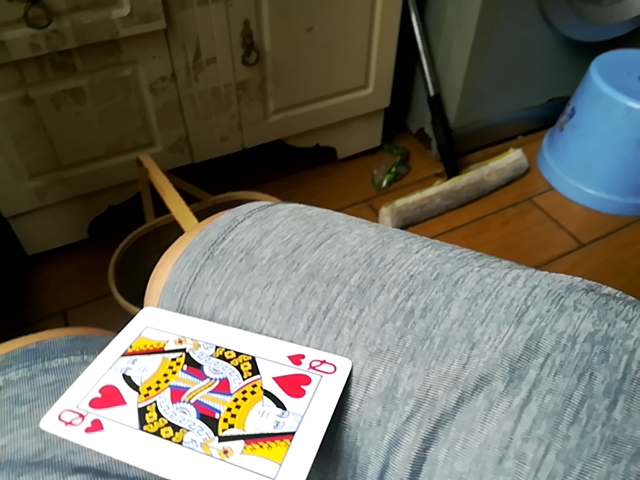hx q: (41, 305, 350, 480)
